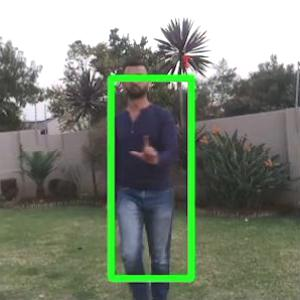land_hand: (127, 127, 168, 170)
